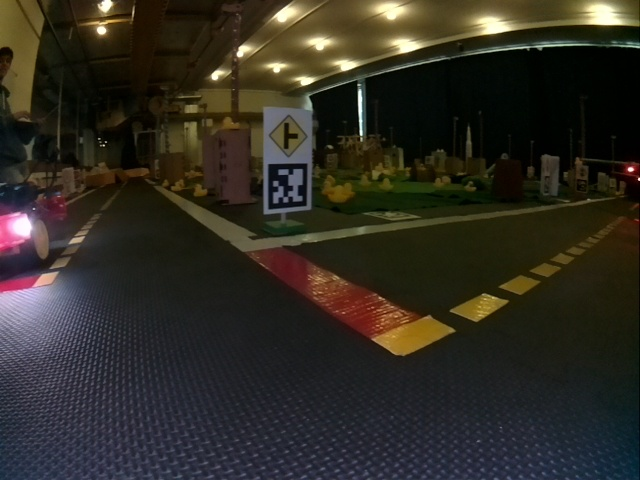Duckie: (329, 185, 348, 203)
Duckiebot: (3, 185, 68, 266)
Intersection sign: (268, 115, 306, 154)
QR code: (267, 163, 308, 209), (368, 211, 417, 220)
